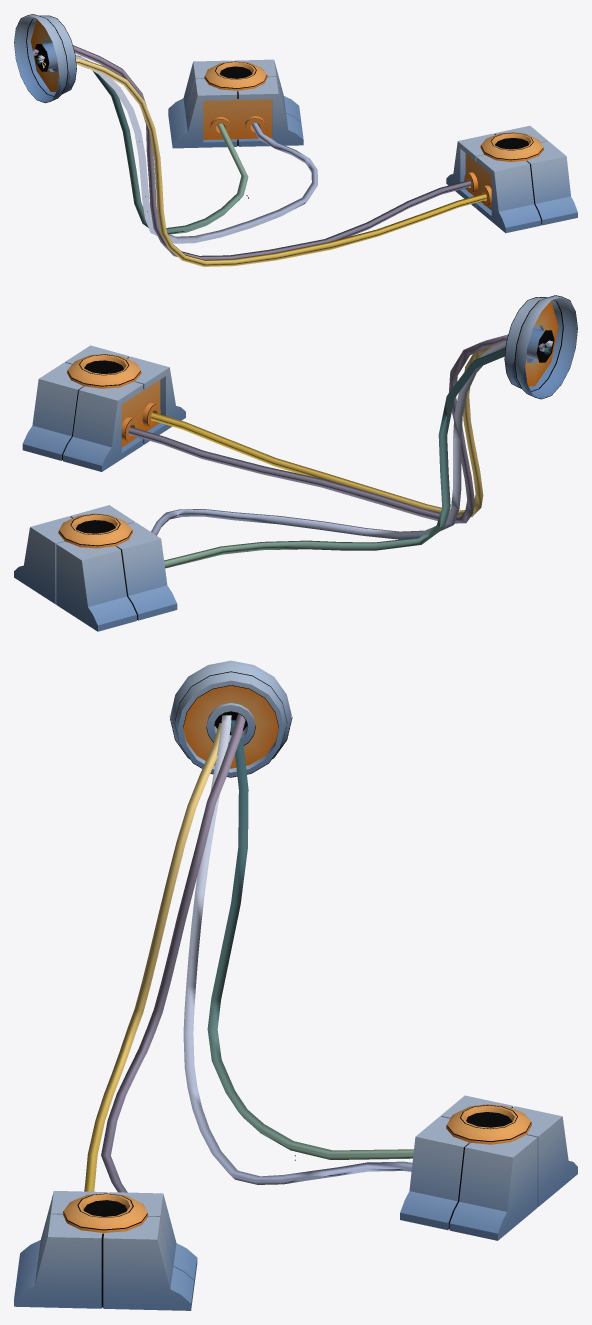
File: SciFi_Plug.glb
The picture shows the model from 3 angles, top to bottom: view 1: azimuth 30°, elevation 25°; view 2: azimuth 150°, elevation 25°; view 3: azimuth 270°, elevation 25°; orthographic projection. The views are drawn at different scales.
Parts seen in each view (by area): view 1: SciFi_Plug; view 2: SciFi_Plug; view 3: SciFi_Plug.
Part boxes in pixels (bbox=[...]): SciFi_Plug: bbox=[14, 14, 577, 266]; SciFi_Plug: bbox=[14, 295, 577, 631]; SciFi_Plug: bbox=[14, 660, 577, 1310].
Bounding box in the file's own units: 5.93 × 3.1 × 4.58.
Materials: 3 (2 with a texture image).
